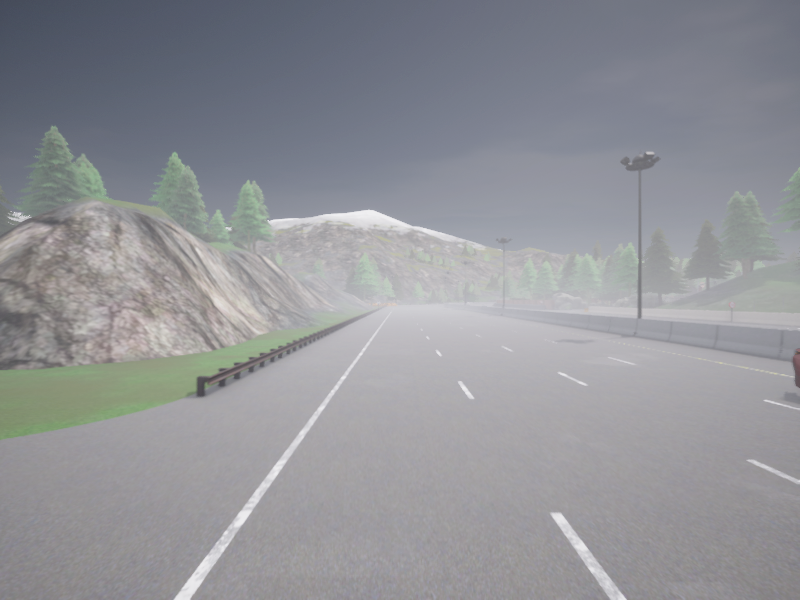vehicle: (792, 348, 799, 387), (464, 301, 469, 304), (482, 304, 486, 306)
